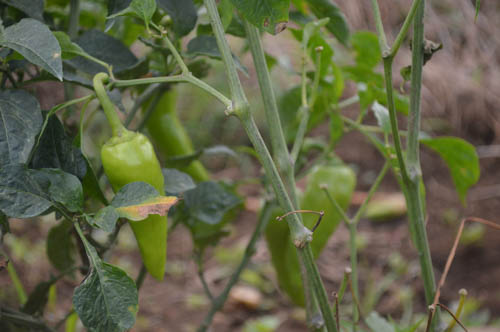ChiliPepper: (108, 133, 169, 287), (287, 163, 359, 256), (255, 209, 304, 302), (144, 94, 200, 172)
